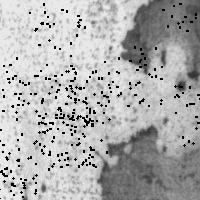pitted_surface: (1, 1, 120, 193), (95, 124, 171, 199), (118, 1, 183, 74), (15, 55, 75, 115), (104, 46, 161, 105), (49, 108, 106, 166), (38, 110, 93, 168), (28, 71, 86, 123), (55, 70, 108, 125), (29, 0, 86, 48), (0, 129, 42, 184), (0, 64, 36, 119), (174, 85, 200, 144), (159, 0, 200, 31), (0, 170, 35, 200)
